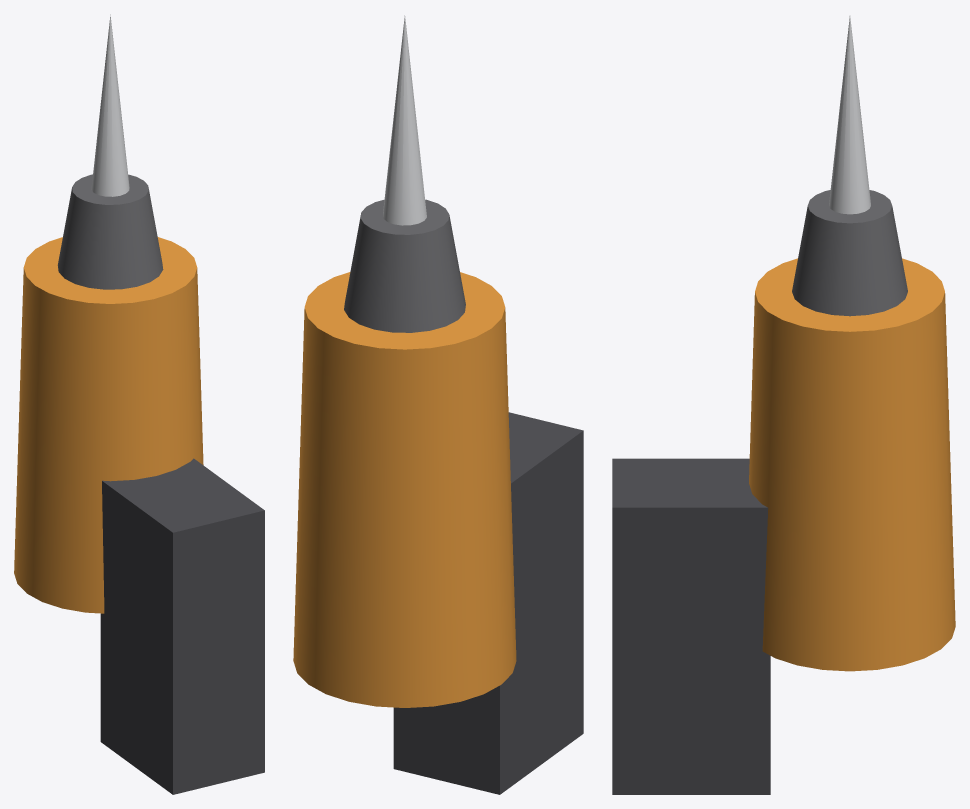
Rendered from esempio-trapano.glb.
3 renders of one model, left to right at view 1: azimuth 30°, elevation 25°; view 2: azimuth 150°, elevation 25°; view 3: azimuth 270°, elevation 25°, orthographic. The views are drawn at different scales.
Visible parts, largest first — view 1: Trapano; view 2: Trapano; view 3: Trapano.
Part boxes in pixels (<box>): Trapano: <box>14,14,264,794</box>; Trapano: <box>293,15,583,794</box>; Trapano: <box>612,15,955,794</box>.
Size of the model in its own units: 0.04 by 0.158 by 0.065.
